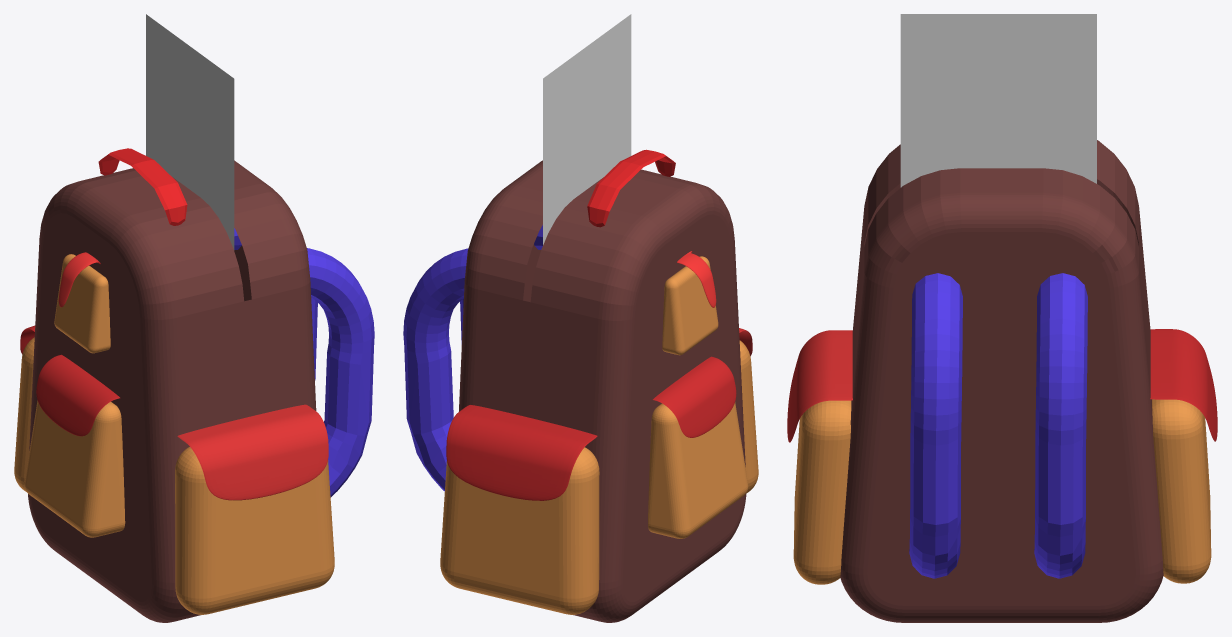
Rendered from mochila con color.fbx.
3 views of the same model, side by side, from view 1: azimuth 30°, elevation 25°; view 2: azimuth 150°, elevation 25°; view 3: azimuth 270°, elevation 25° (orthographic). The views are drawn at different scales.
Parts seen in each view (by area): view 1: CUERPO MOCHILA, Cubo.002, Plano, Toroide, pestaña bolsa delantera.002, Cubo, pestaña bolsa delantera, Cubo.003, ASA, Cubo.001, pestaña bolsa delantera.003; view 2: CUERPO MOCHILA, Cubo.001, Plano, pestaña bolsa delantera.001, Cubo, Toroide.001, pestaña bolsa delantera, Cubo.003, ASA, Cubo.002, pestaña bolsa delantera.003; view 3: CUERPO MOCHILA, Plano, Toroide, Toroide.001, Cubo.001, Cubo.002, pestaña bolsa delantera.001, pestaña bolsa delantera.002.
Part boxes in pixels (x1,y1,x2,y2): CUERPO MOCHILA: (28, 160, 316, 622); Cubo.002: (175, 447, 334, 614); Plano: (146, 14, 234, 250); Toroide: (307, 248, 374, 497); pestaña bolsa delantera.002: (177, 404, 328, 500); Cubo: (24, 400, 125, 537); pestaña bolsa delantera: (36, 354, 119, 436); Cubo.003: (54, 254, 110, 353); ASA: (98, 148, 187, 225); Cubo.001: (14, 337, 34, 491); pestaña bolsa delantera.003: (58, 252, 100, 307); CUERPO MOCHILA: (459, 160, 746, 622); Cubo.001: (440, 447, 599, 614); Plano: (543, 14, 631, 244); pestaña bolsa delantera.001: (446, 405, 597, 500); Cubo: (648, 402, 748, 538); Toroide.001: (403, 248, 468, 491); pestaña bolsa delantera: (653, 356, 736, 437); Cubo.003: (662, 256, 718, 355); ASA: (587, 149, 675, 227); Cubo.002: (739, 340, 758, 493); pestaña bolsa delantera.003: (677, 251, 716, 307); CUERPO MOCHILA: (840, 140, 1163, 622); Plano: (900, 14, 1096, 187); Toroide: (909, 273, 962, 578); Toroide.001: (1034, 273, 1087, 578); Cubo.001: (1152, 399, 1211, 583); Cubo.002: (793, 400, 851, 584); pestaña bolsa delantera.001: (1150, 329, 1217, 441); pestaña bolsa delantera.002: (787, 330, 852, 442).
Size of the model in its own units: 2.6 by 4.52 by 3.03.
